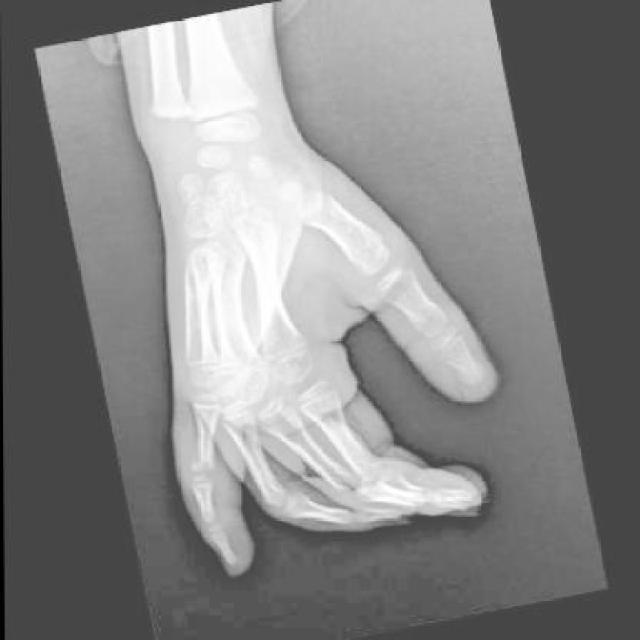Fracture: (183, 445, 217, 482)
